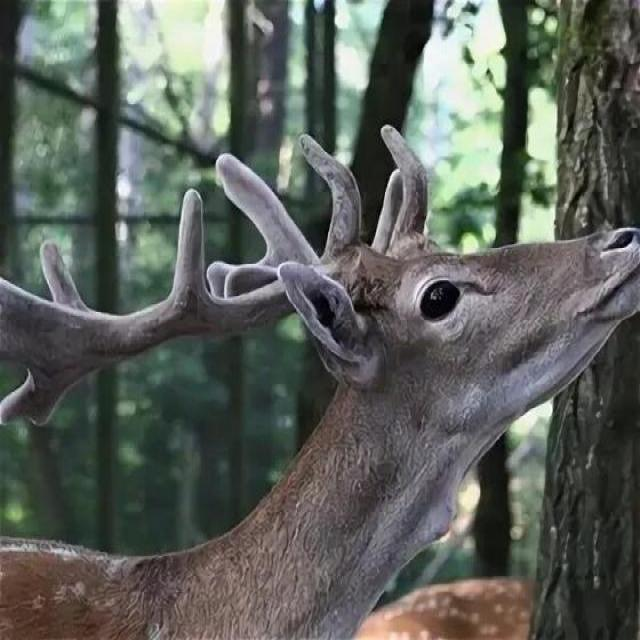deer: (69, 134, 606, 557)
